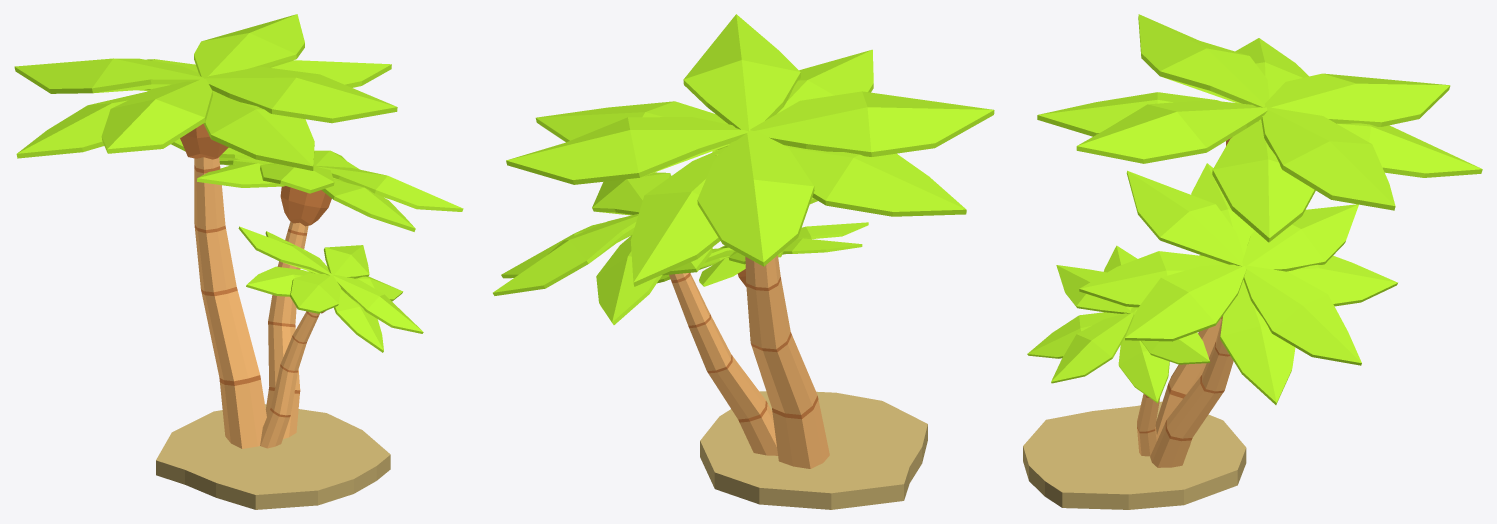
File: tree.fbx
The picture shows the model from 3 angles, left to right: view 1: azimuth 30°, elevation 25°; view 2: azimuth 150°, elevation 25°; view 3: azimuth 270°, elevation 25°; orthographic projection. The views are drawn at different scales.
Parts seen in each view (by area): view 1: Cube.001, Green_platform1, Cube.002, Cube.003; view 2: Cube.001, Green_platform1, Cube.002, Cube.003; view 3: Cube.001, Cube.002, Green_platform1, Cube.003.
Boxes of the visible parts, <box> form: Cube.001: <box>14,14,397,448</box>; Green_platform1: <box>156,404,390,509</box>; Cube.002: <box>171,138,463,438</box>; Cube.003: <box>238,226,423,448</box>; Cube.001: <box>506,14,994,468</box>; Green_platform1: <box>700,391,927,509</box>; Cube.002: <box>493,172,817,455</box>; Cube.003: <box>657,222,868,287</box>; Cube.001: <box>1037,14,1482,447</box>; Cube.002: <box>1079,163,1397,467</box>; Green_platform1: <box>1023,401,1246,509</box>; Cube.003: <box>1027,245,1210,456</box>.
Bounding box in the file's own units: 176 × 153 × 165.
